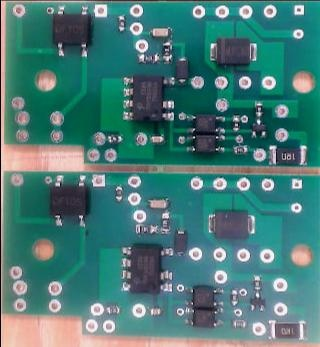chip-capacitor: (145, 196, 171, 209), (146, 27, 172, 39), (147, 133, 164, 144), (145, 306, 162, 316)
chip-resistor: (266, 143, 308, 166), (266, 319, 306, 341), (133, 222, 158, 235), (159, 209, 171, 235), (135, 53, 159, 66), (160, 40, 172, 65), (230, 143, 250, 155), (250, 274, 262, 291), (113, 184, 123, 204), (116, 12, 126, 32), (105, 133, 123, 144), (228, 288, 238, 307), (230, 319, 248, 329), (231, 113, 240, 133), (253, 100, 263, 117), (105, 305, 121, 315)
diode: (206, 209, 256, 239), (207, 37, 257, 66), (174, 56, 189, 85), (172, 227, 186, 256)
ic: (119, 245, 173, 294), (120, 75, 175, 123), (48, 173, 88, 229), (51, 4, 90, 58), (182, 285, 224, 307), (183, 306, 223, 328), (184, 133, 224, 153), (184, 114, 224, 133)
transistor: (248, 291, 265, 313), (250, 118, 266, 138)
